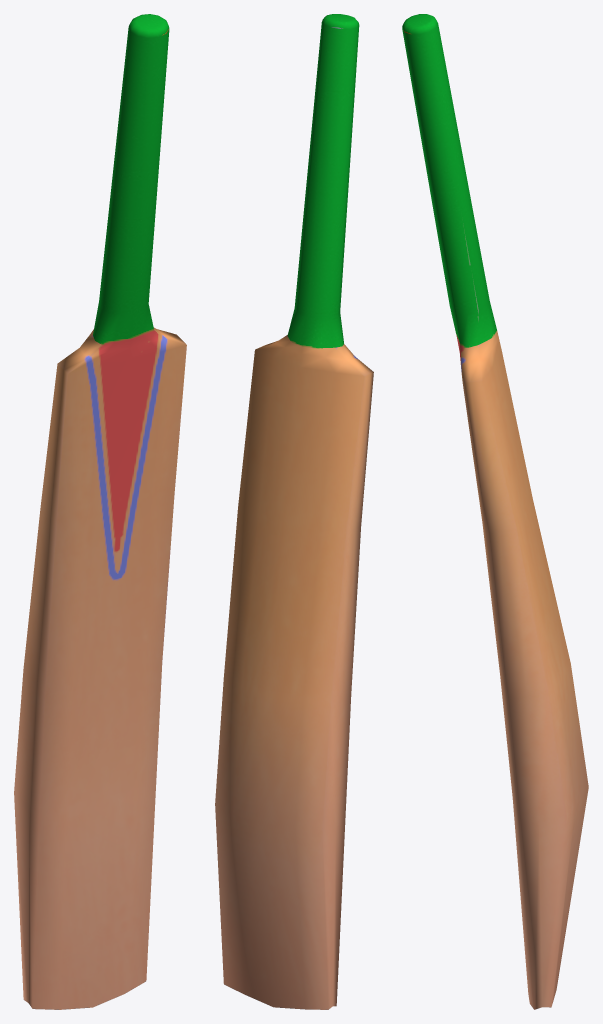
Rendered from Cricketbat.fbx.
The picture shows the model from 3 angles, left to right: view 1: azimuth 30°, elevation 25°; view 2: azimuth 150°, elevation 25°; view 3: azimuth 270°, elevation 25°; orthographic projection. The views are drawn at different scales.
Parts seen in each view (by area): view 1: Cricket Bat; view 2: Cricket Bat; view 3: Cricket Bat.
Part boxes in pixels (left/top/right/bottom): Cricket Bat: left=14, top=14, right=186, bottom=1009; Cricket Bat: left=215, top=14, right=373, bottom=1009; Cricket Bat: left=402, top=14, right=588, bottom=1009.
Size of the model in its own units: 45.61 by 377 by 65.36.
Materials: 1 (1 with a texture image).
